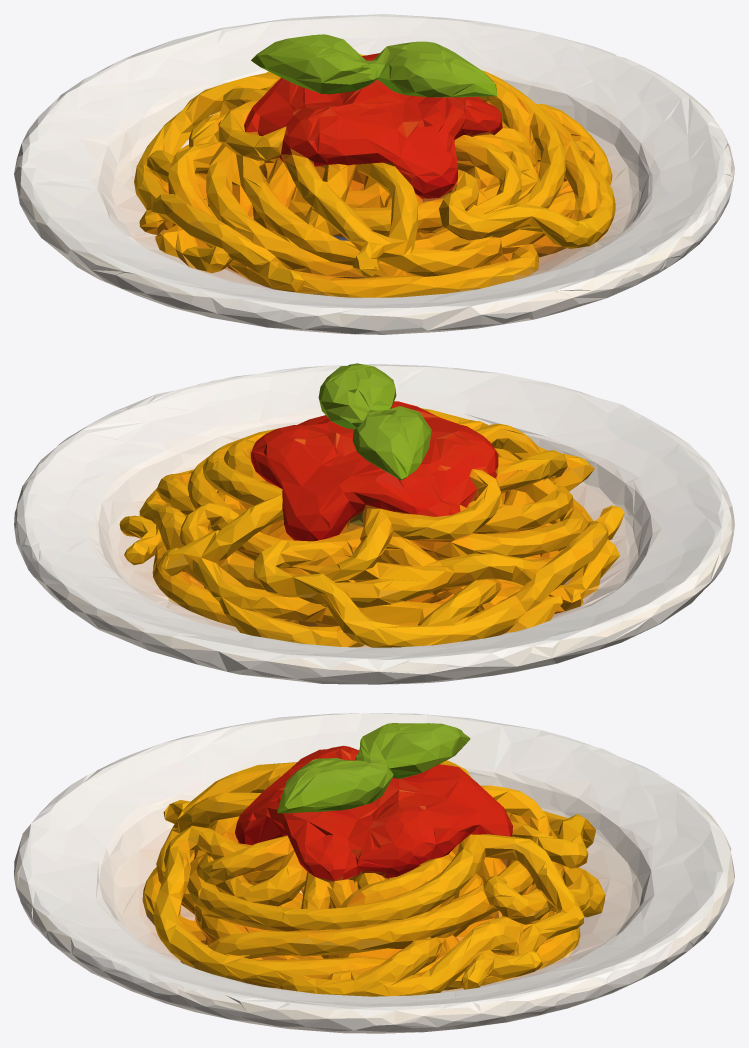
The model's file is pasta_plate.glb.
3 views of the same model, one above another, from view 1: azimuth 30°, elevation 25°; view 2: azimuth 150°, elevation 25°; view 3: azimuth 270°, elevation 25° (orthographic).
Parts seen in each view (by area): view 1: geometry_0; view 2: geometry_0; view 3: geometry_0.
Boxes of the visible parts, left/top/right/bottom form: geometry_0: left=14, top=14, right=734, bottom=334; geometry_0: left=14, top=363, right=734, bottom=684; geometry_0: left=14, top=713, right=734, bottom=1033.
Bounding box in the file's own units: 0.24 × 0.0704 × 0.239.
1 material, 1 textured.
